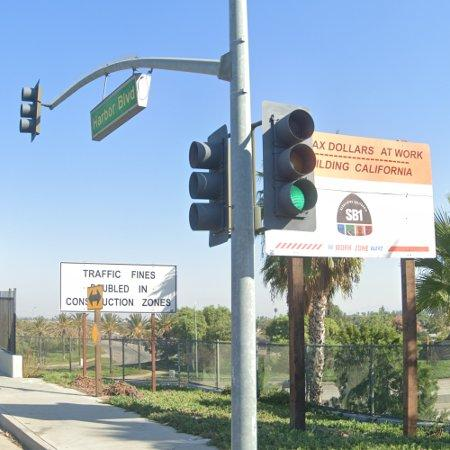traffic lights: (260, 100, 320, 230), (183, 123, 231, 248), (20, 84, 42, 142)
